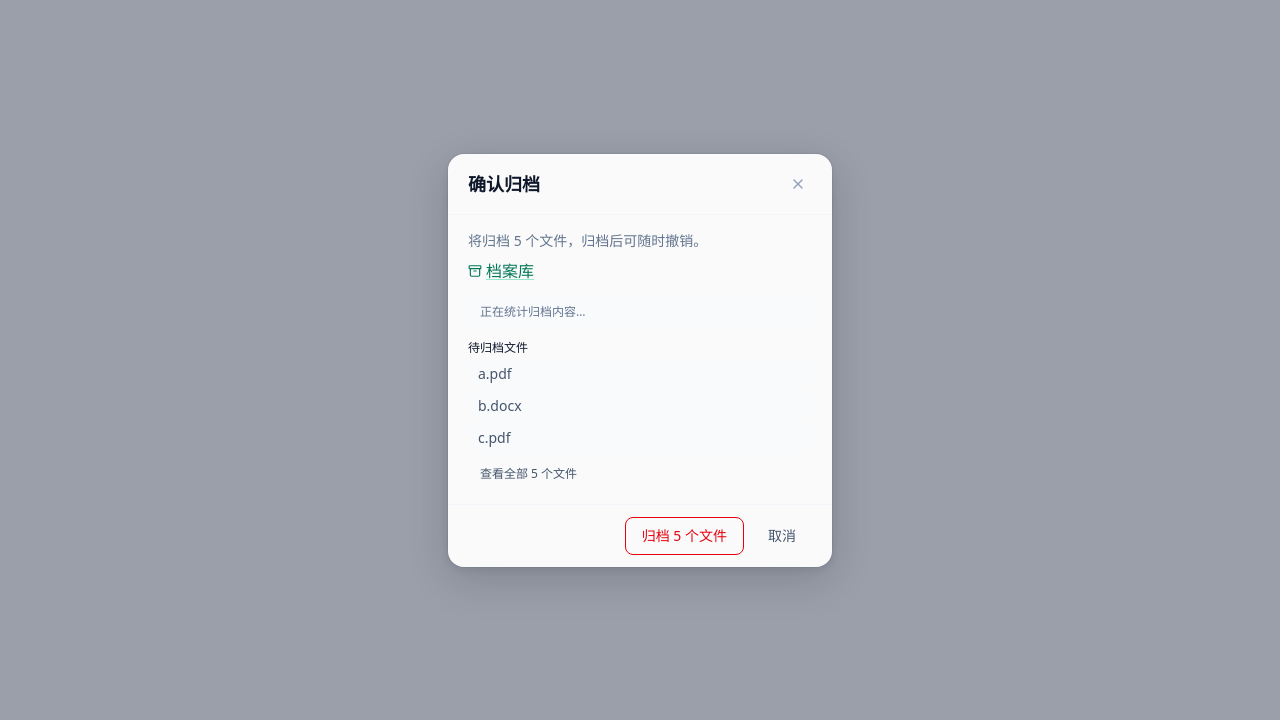
Test: ArchiveConfirmDialog › 切换到完整列表视图并可返回，确认按钮两视图常在
Click the button "查看全部 5 个文件".
click(529, 474)  # box [468,460,589,488]
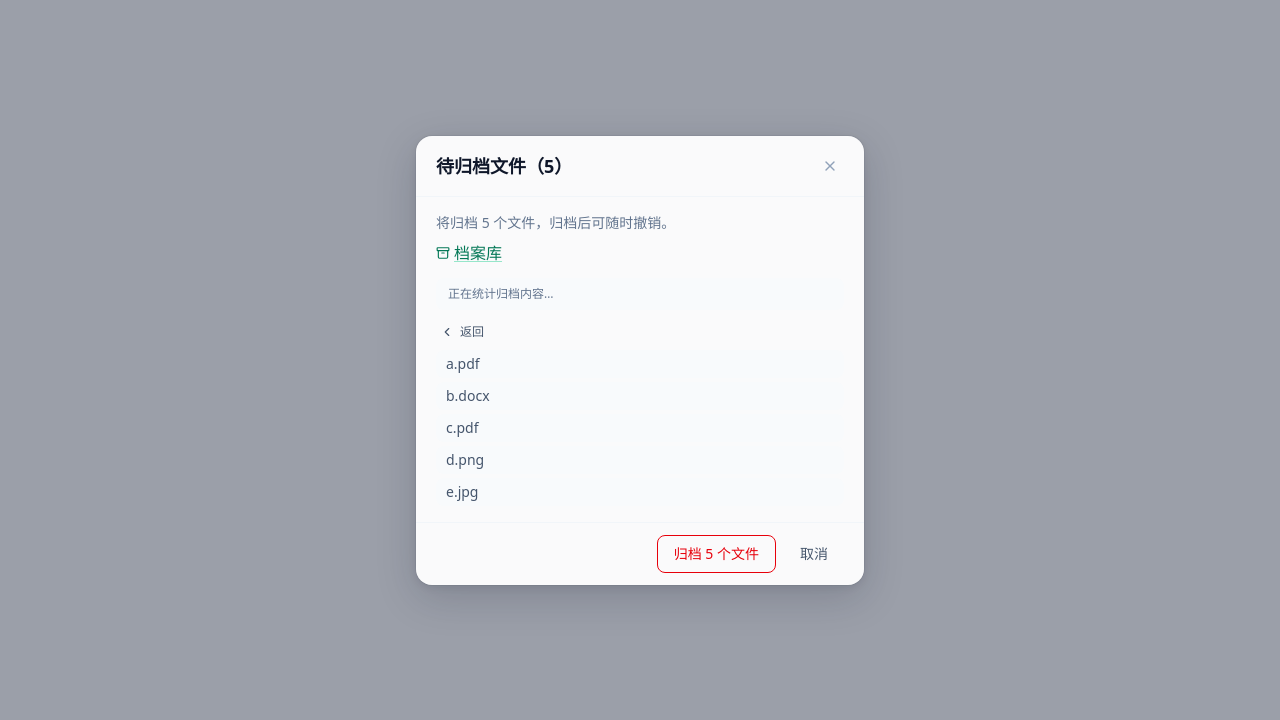
Expected: the heading "待归档文件（5）" is shown, [436,152,572,180]
Expected: the text "d.png" is shown, [436,446,844,474]
Expected: the text "e.jpg" is shown, [436,478,844,506]
Click the button "返回".
click(462, 332)  # box [428,318,496,346]
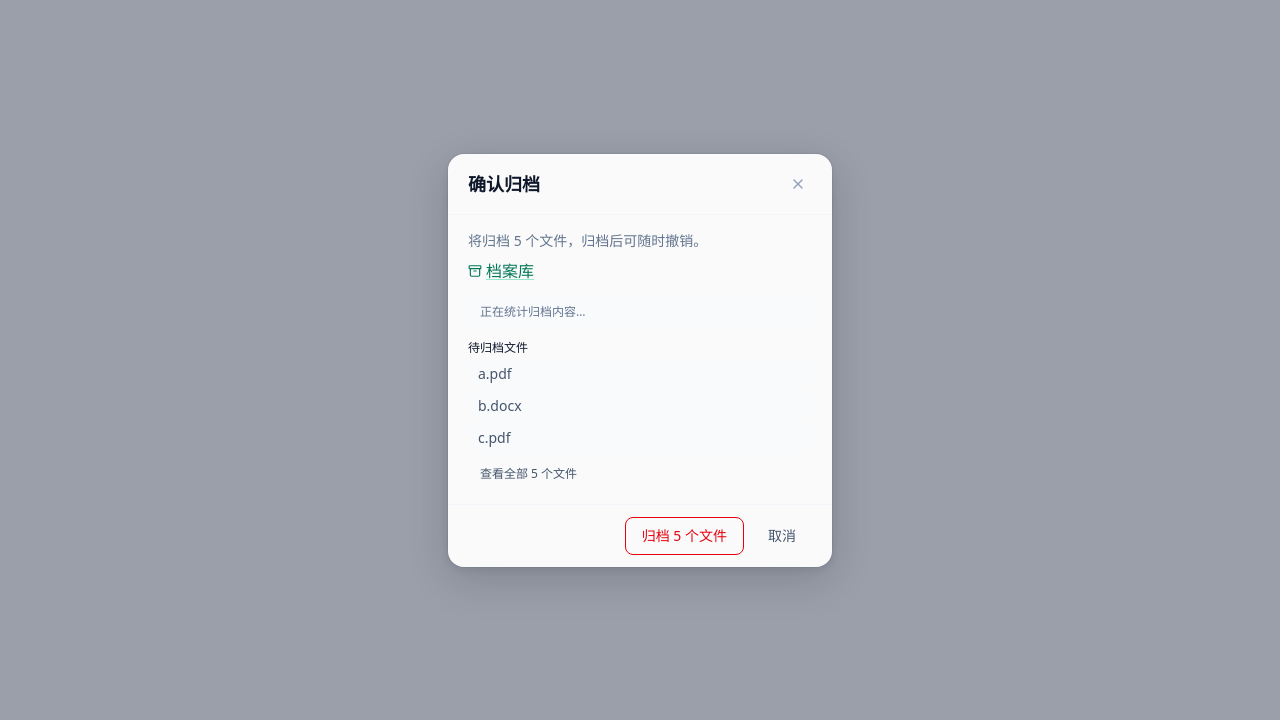
Expected: the heading "确认归档" is shown, [468,170,540,198]
